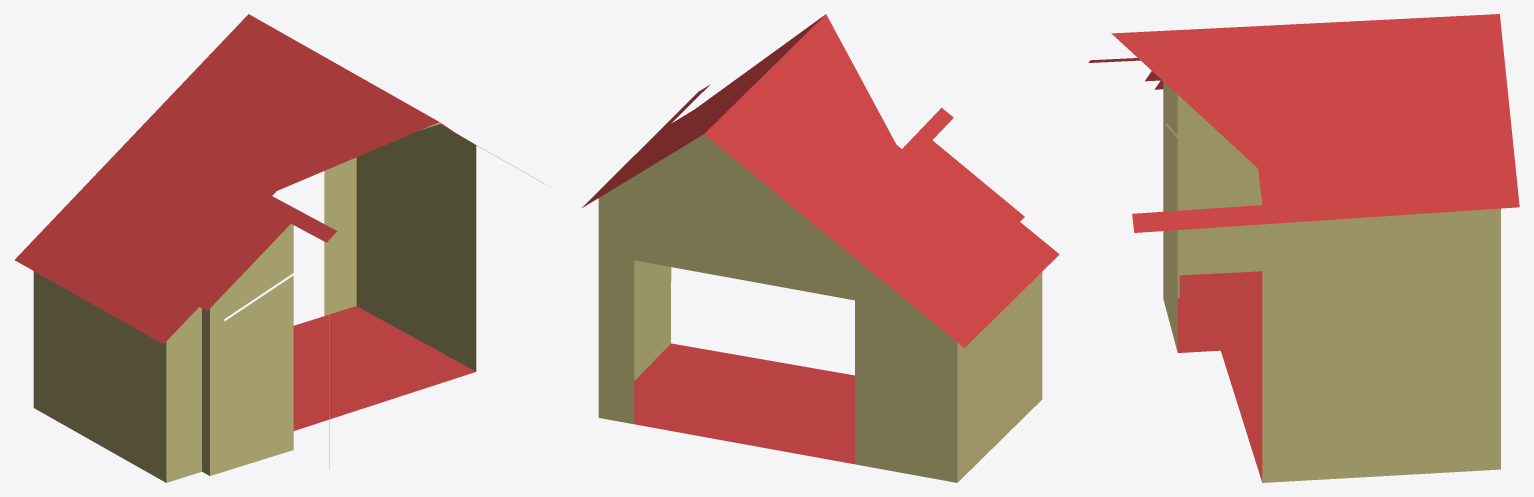
3 views of the same model, side by side, from view 1: azimuth 30°, elevation 25°; view 2: azimuth 150°, elevation 25°; view 3: azimuth 270°, elevation 25° (orthographic). The views are drawn at different scales.
Size of the model in its own units: 17.09 by 12.82 by 12.81.
